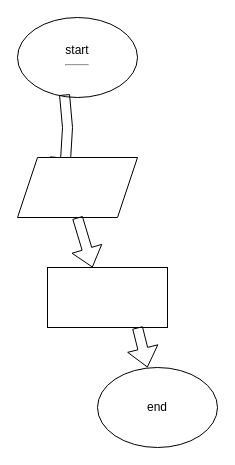
The diagram is 235 pixels wide and 465 high, and some of its shapes have lost their labels. The shapes that lost their labels are listed below. From the top down, each one's centre as x and y in pixels, then its label:
point (77, 187): a=5 b=6
point (107, 297): c=a+b
